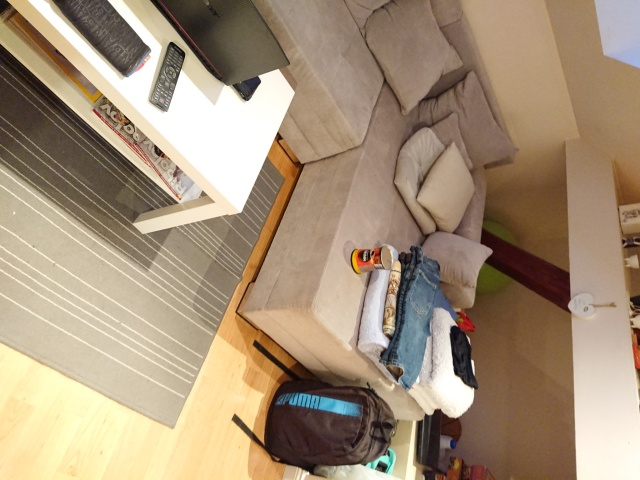Nescafe Classic 225g: (348, 244, 395, 276)
